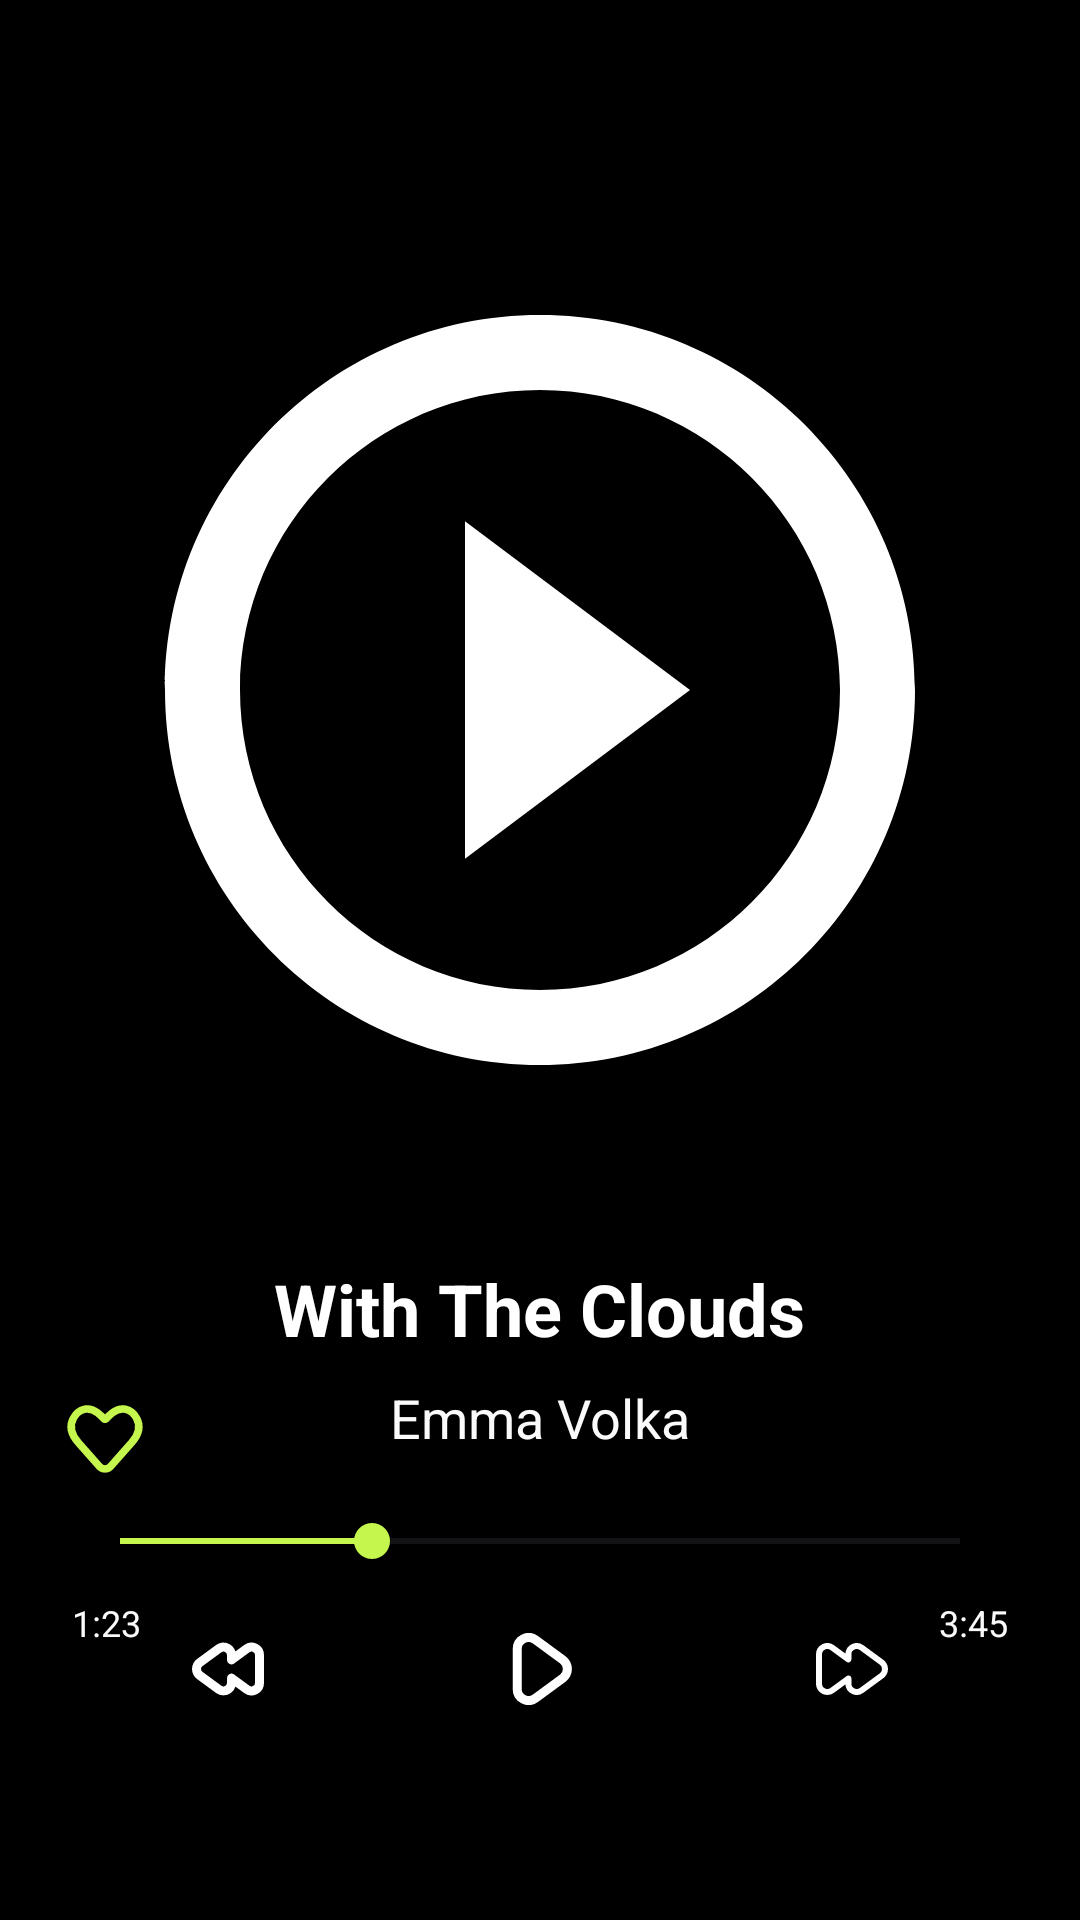

Screen size 1080x1920. Icon name, then its box in pixels as (x1, y1, x2, y2):
Like button: (67, 1405, 143, 1473)
skip next: (816, 1643, 888, 1695)
skip previous: (192, 1642, 264, 1696)
